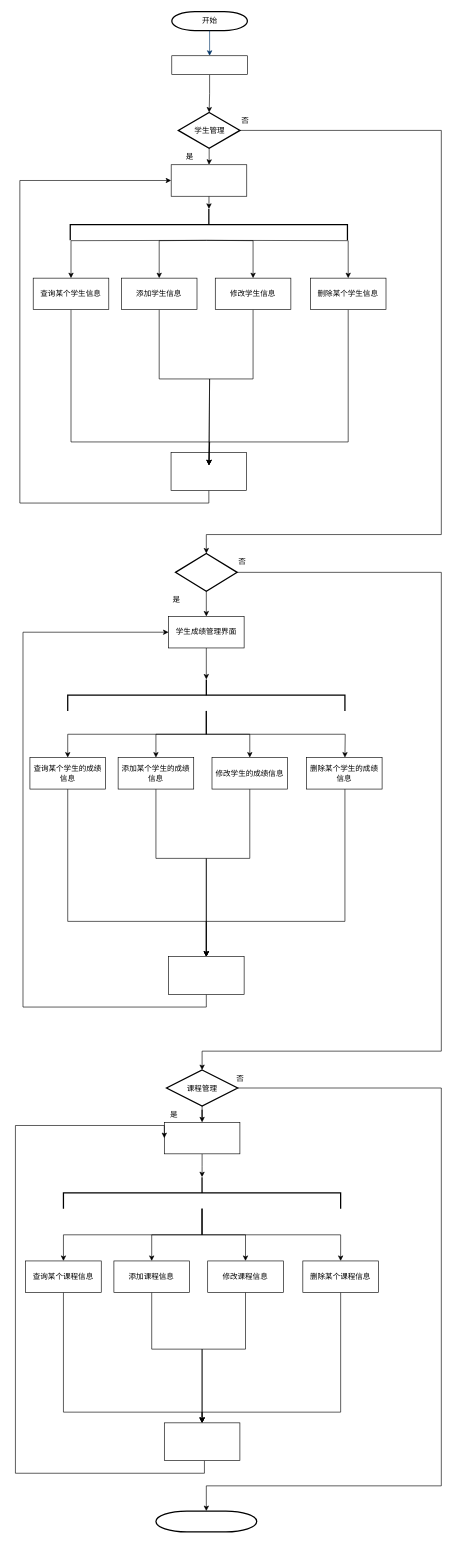
Image size: 457x1543. Some labels were removed from this diagram. The shapes that lost their labels are listed below. From the top down, each one's box as (x1, y1, x2, y2) in pixels, then its label:
(171, 55, 247, 75): 功能选择
(171, 164, 247, 196): 学生管理界面
(170, 452, 247, 490): 通过数据源调用学生管理的存储过程，并更新界面数据显示
(175, 553, 238, 592): 成绩管理
(168, 956, 244, 994): 通过数据源调用学生成绩管理的存储过程，并更新界面数据显示
(164, 1122, 240, 1154): 课程管理界面
(164, 1422, 240, 1461): 通过数据源调用课程管理的存储过程，并更新界面数据显示
(155, 1510, 257, 1532): 退出系统
